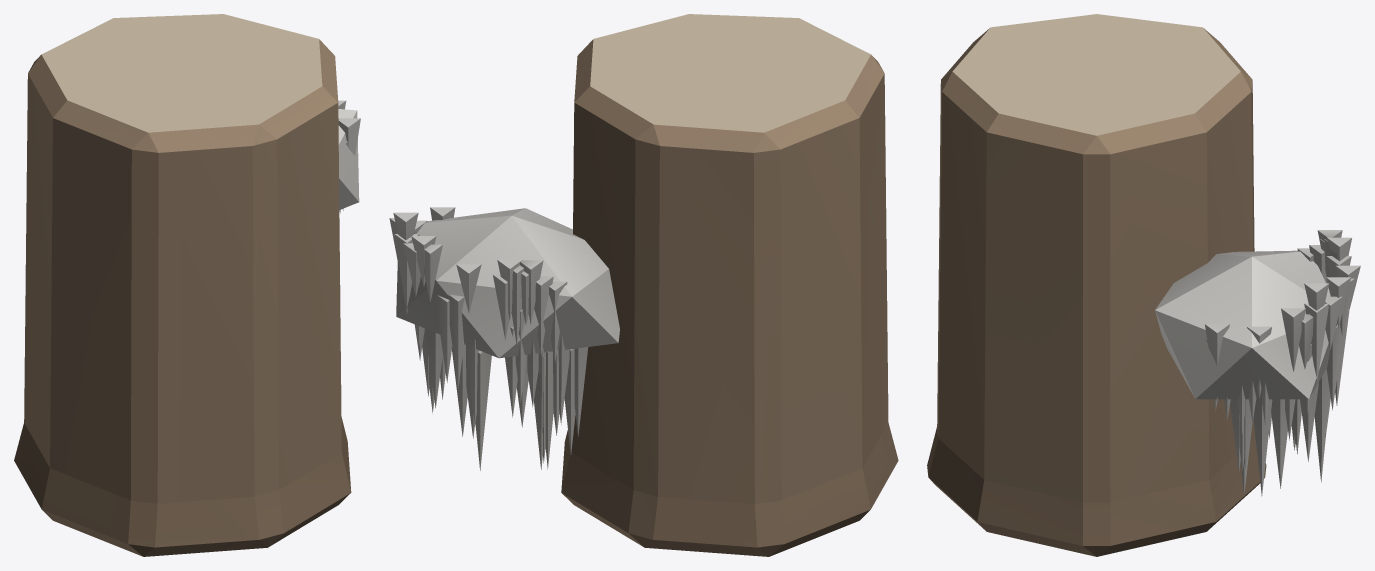
The model's file is mushroom_lionsmane.glb.
3 renders of one model, left to right at view 1: azimuth 30°, elevation 25°; view 2: azimuth 150°, elevation 25°; view 3: azimuth 270°, elevation 25°, orthographic.
Bounding box in the file's own units: 0.2324 × 0.235 × 0.2235.
